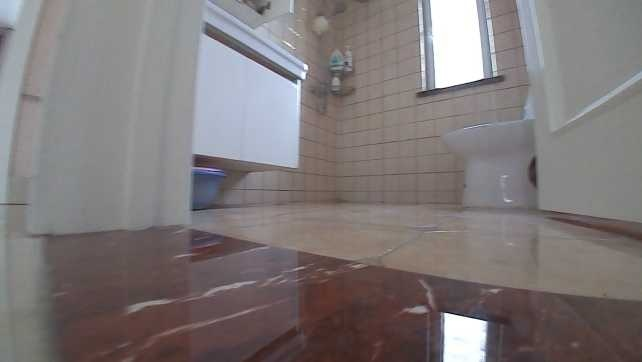toilet: (443, 89, 539, 209)
